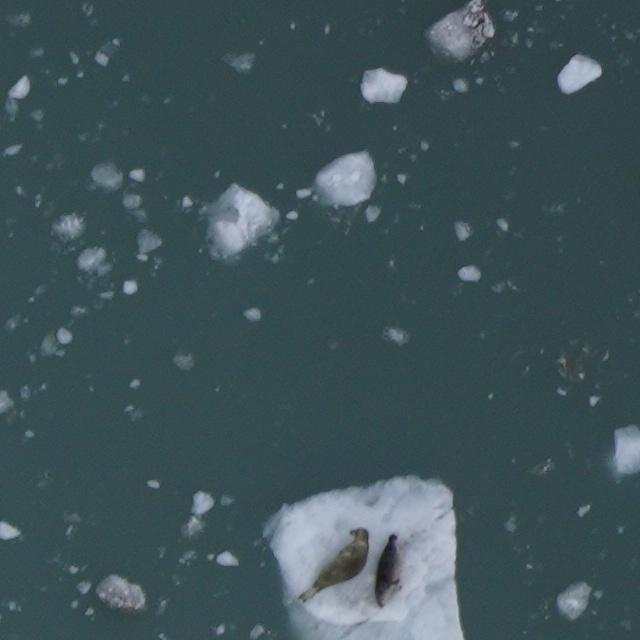seal: (293, 523, 373, 607), (371, 530, 407, 612)
